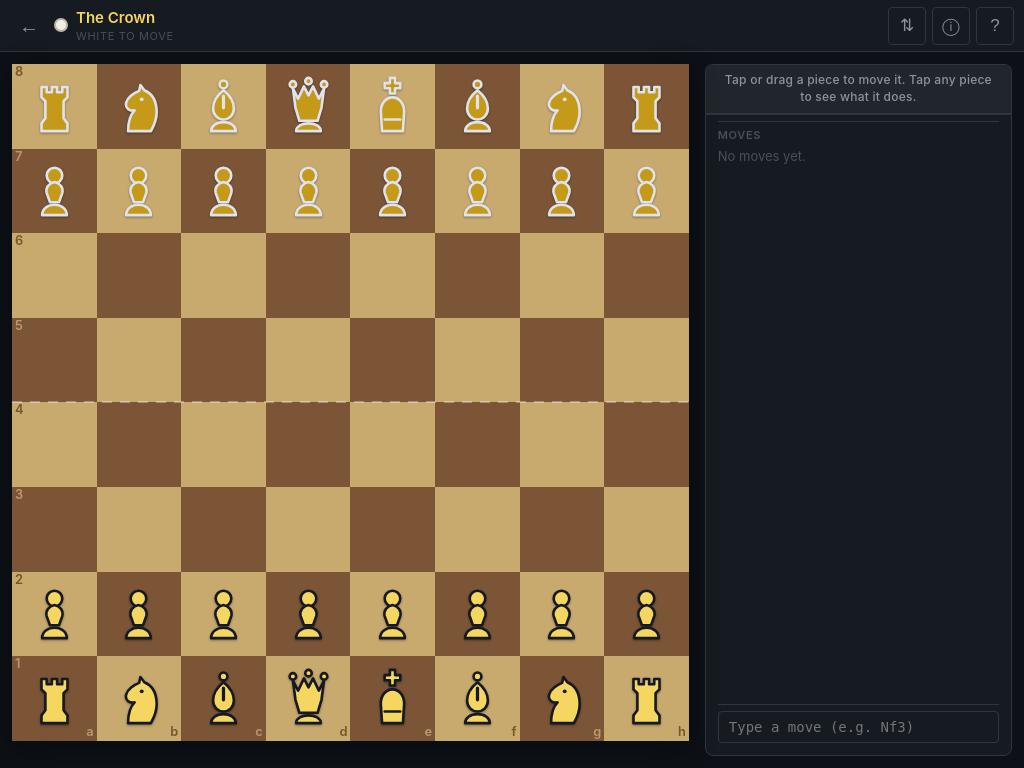
tap-to-inspect › shows the info bar for an opponent piece with a waiting note
# Black pawn on e7 (sq 52) — White to move
Click the cell named "e7: Black Pawn" at coordinates (393, 191), box [350,149,435,233]
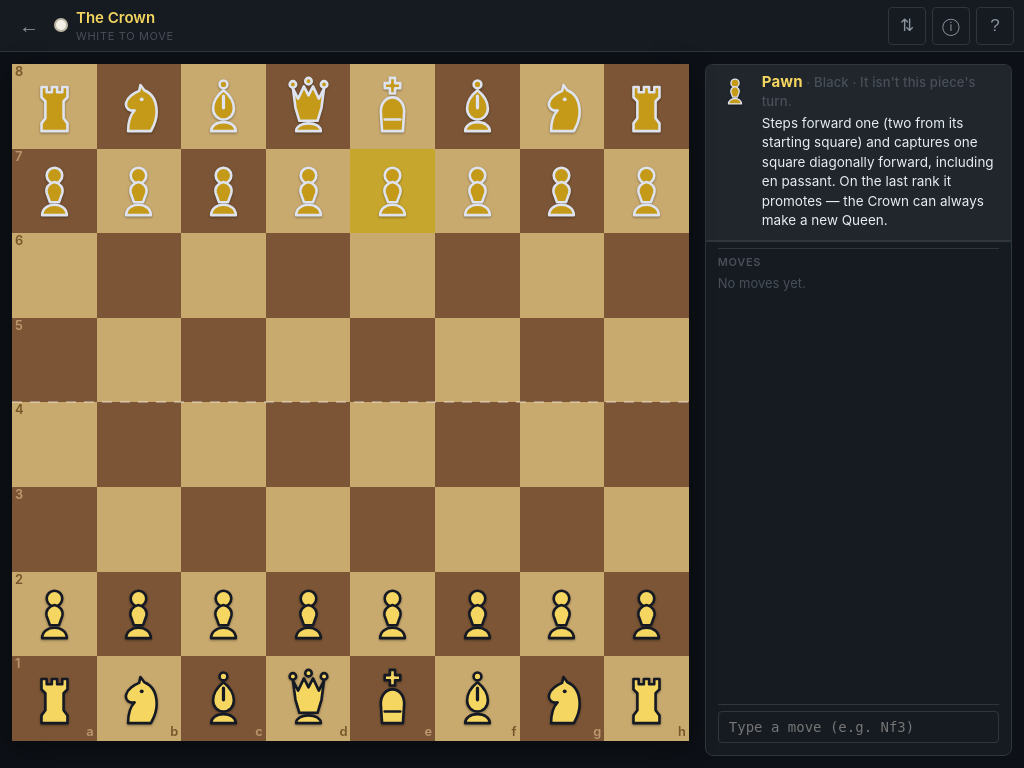
Expected: the element with test id "piece-info" is shown, [706,65,1011,241]
Expected: the element with test id "piece-info" shows "Pawn", [762,72,803,91]
Expected: the element with test id "piece-info" shows "isn't this piece's turn", [762,74,976,109]
